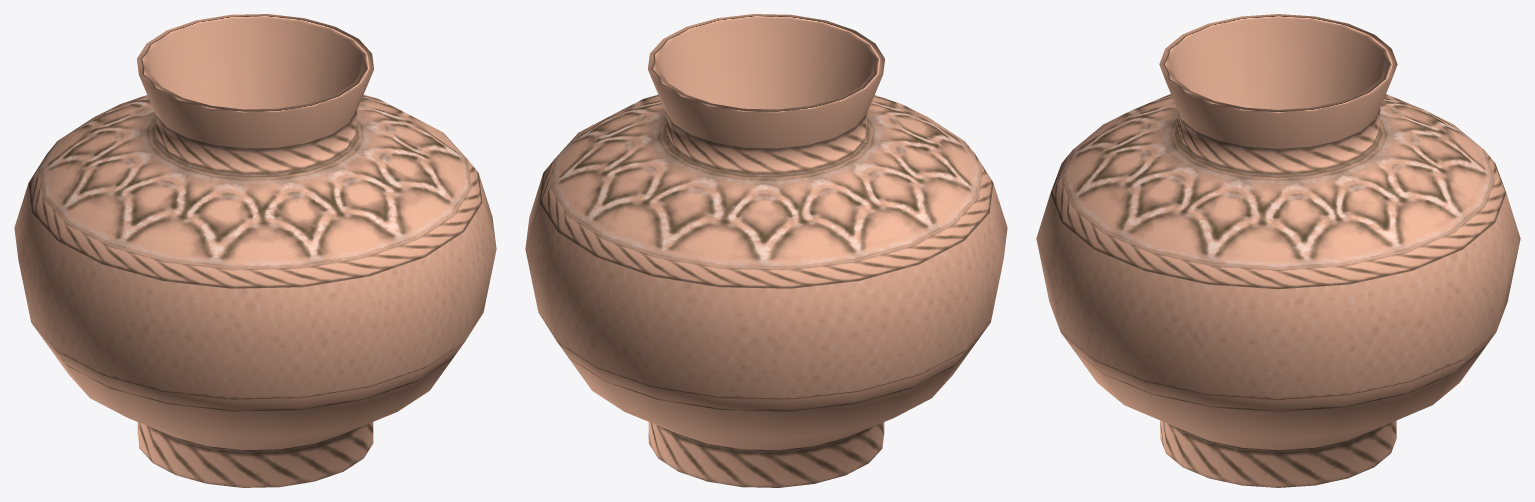
File: Pot_1.fbx
3 views of the same model, side by side, from view 1: azimuth 30°, elevation 25°; view 2: azimuth 150°, elevation 25°; view 3: azimuth 270°, elevation 25° (orthographic).
Visible parts, largest first — view 1: pot_1; view 2: pot_1; view 3: pot_1.
Boxes of the visible parts, x1,y1,x2,y2 form: pot_1: [14, 14, 496, 487]; pot_1: [525, 14, 1007, 487]; pot_1: [1036, 14, 1520, 487].
Bounding box in the file's own units: 60.64 × 51.62 × 60.64.
